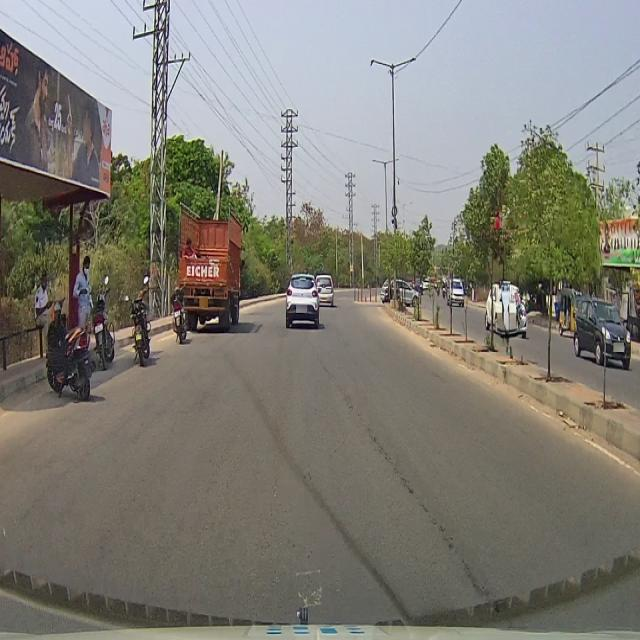car ahead at: (276, 263, 326, 334)
motorcycle ahead at: (43, 297, 94, 407), (120, 278, 160, 370)
truck ahead at: (176, 199, 245, 321)
